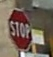stop: (6, 6, 33, 51)
